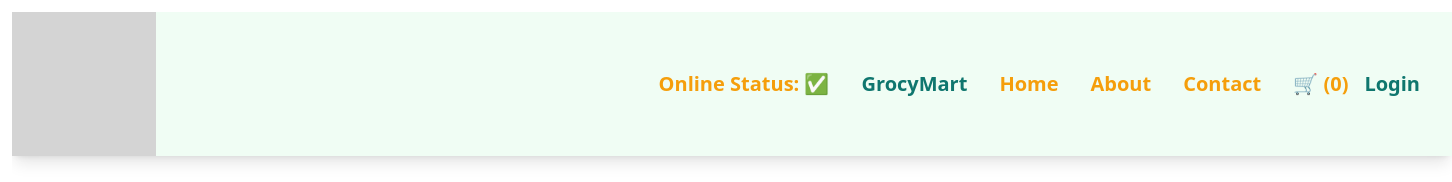
Scenario: Should render Header component with login button
Click the button "Login" at (1392, 84), box [1364,70,1420,98]
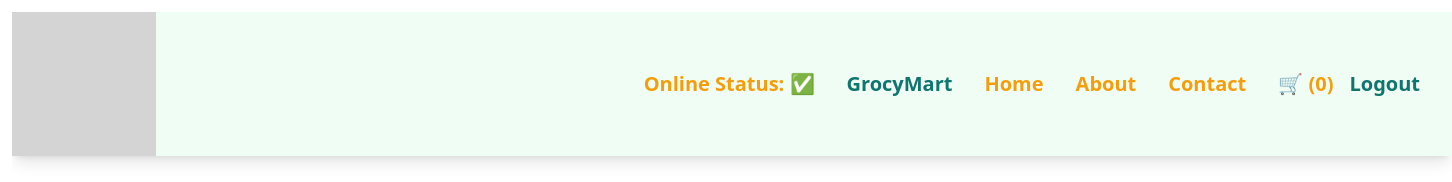
Expected: the button "Logout" is shown, [1350,70,1420,98]
